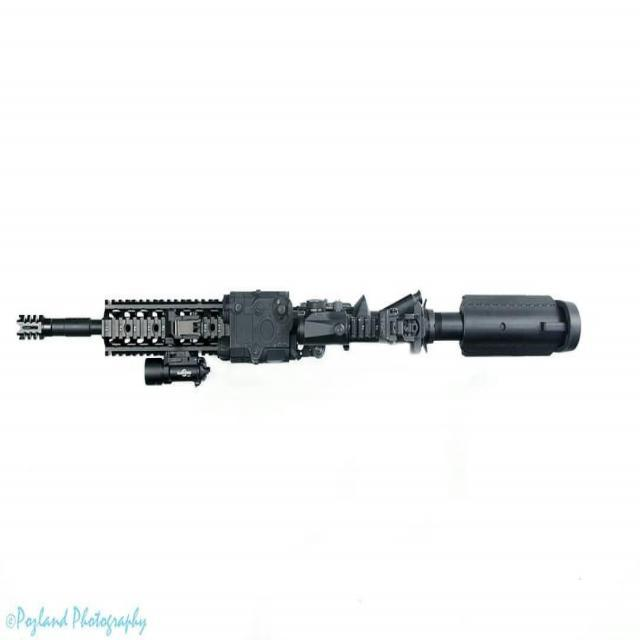gun: (15, 289, 579, 384)
